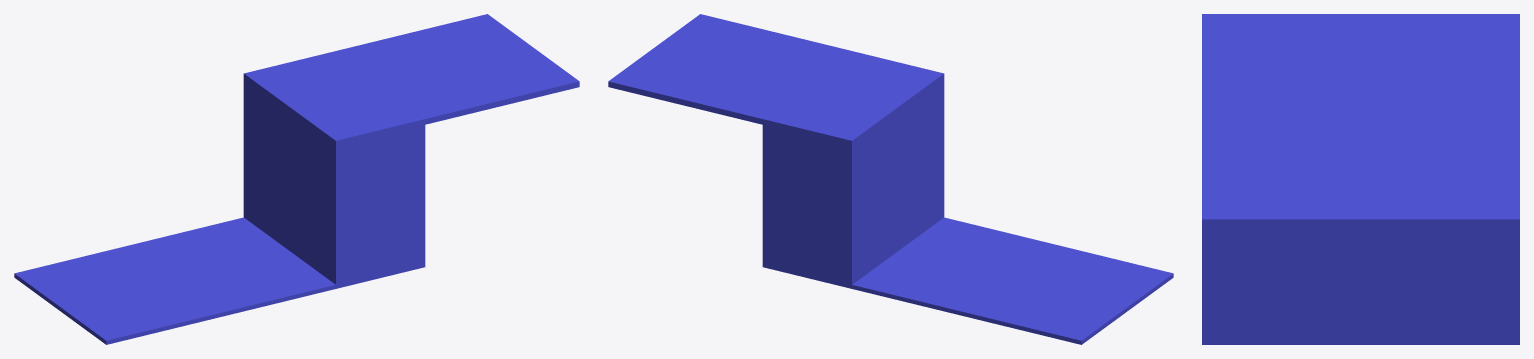
File: Floor2.fbx
The picture shows the model from 3 angles, left to right: view 1: azimuth 30°, elevation 25°; view 2: azimuth 150°, elevation 25°; view 3: azimuth 270°, elevation 25°; orthographic projection. The views are drawn at different scales.
Visible parts, largest first — view 1: Floor2; view 2: Floor2; view 3: Floor2.
Boxes of the visible parts, x1=… form: Floor2: x1=14, y1=14, x2=579, y2=344; Floor2: x1=608, y1=14, x2=1173, y2=344; Floor2: x1=1202, y1=14, x2=1519, y2=344.
Bounding box in the file's own units: 5936 × 1775 × 2000.
